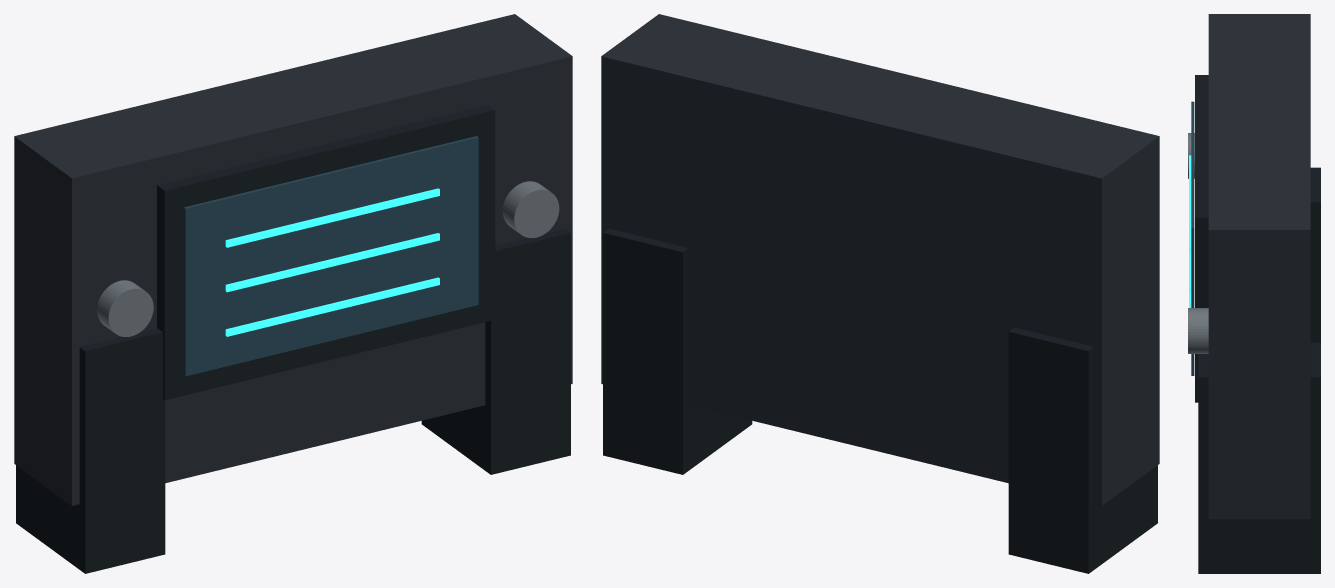
File: controller.glb
3 views of the same model, side by side, from view 1: azimuth 30°, elevation 25°; view 2: azimuth 150°, elevation 25°; view 3: azimuth 270°, elevation 25° (orthographic). The views are drawn at different scales.
Visible parts, largest first — view 1: ControllerShell, Display, ScreenBezel, HandGrip, HandGrip.001, ThumbControl.001, ThumbControl, ScreenRow, ScreenRow.002, ScreenRow.001; view 2: ControllerShell, HandGrip, HandGrip.001; view 3: ControllerShell, HandGrip.001, ScreenBezel, HandGrip, ThumbControl.001, Display, ScreenRow.002.
Boxes of the visible parts, bbox=[...] form: ControllerShell: bbox=[14, 14, 572, 505]; Display: bbox=[184, 136, 478, 376]; ScreenBezel: bbox=[157, 104, 495, 400]; HandGrip: bbox=[16, 328, 165, 573]; HandGrip.001: bbox=[421, 228, 570, 474]; ThumbControl.001: bbox=[502, 181, 559, 237]; ThumbControl: bbox=[97, 280, 153, 336]; ScreenRow: bbox=[225, 277, 439, 336]; ScreenRow.002: bbox=[225, 188, 439, 247]; ScreenRow.001: bbox=[225, 233, 439, 292]; ControllerShell: bbox=[601, 14, 1159, 505]; HandGrip: bbox=[1008, 327, 1157, 573]; HandGrip.001: bbox=[603, 228, 752, 474]; ControllerShell: bbox=[1208, 14, 1310, 519]; HandGrip.001: bbox=[1198, 342, 1320, 573]; ScreenBezel: bbox=[1195, 75, 1208, 402]; HandGrip: bbox=[1310, 167, 1320, 342]; ThumbControl.001: bbox=[1188, 308, 1208, 353]; Display: bbox=[1191, 101, 1194, 375]; ScreenRow.002: bbox=[1189, 155, 1191, 252].
Size of the model in its own units: 2 by 1.5 by 0.52.
